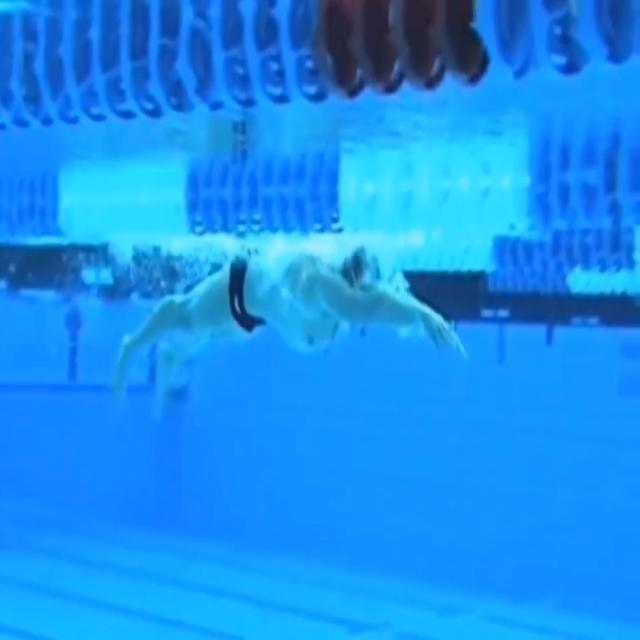Swimming: (114, 244, 468, 409)
